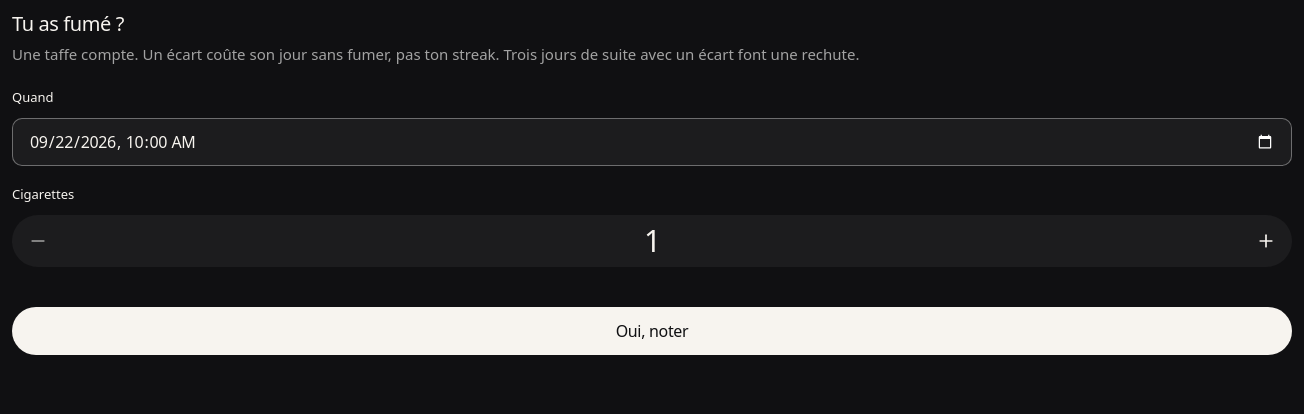
Scenario: refuses a lapse with no date and says why
The width and height of the screenshot is (1304, 414).
Clear the field labelled "Quand" at point(652, 142), box [12,118,1292,166]
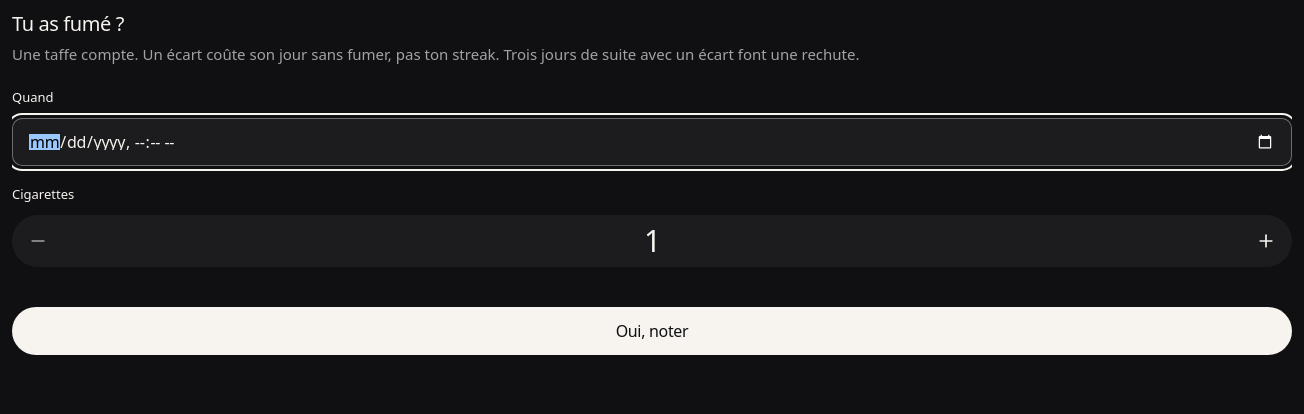
Click the button "Oui, noter" at point(652, 331), box [12,307,1292,355]
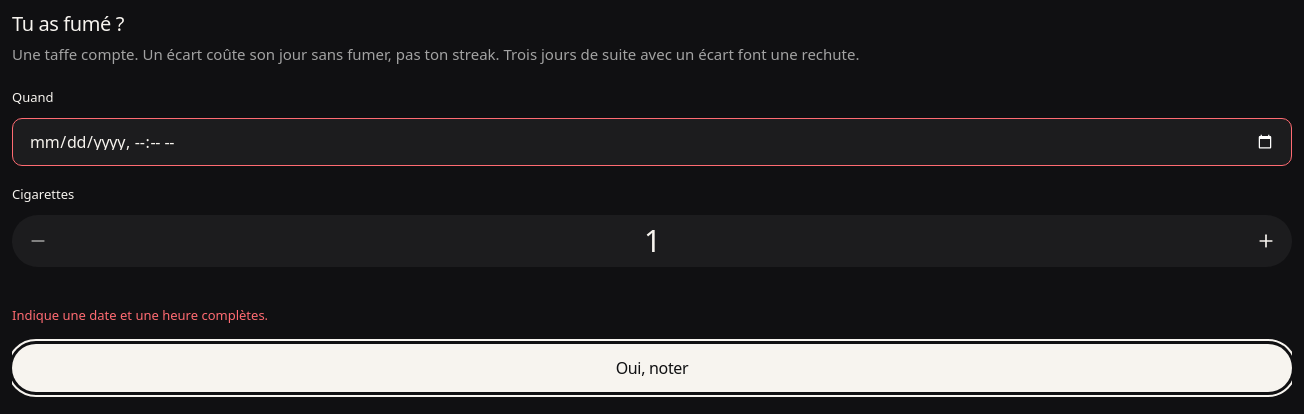
Check: the message reads "Indique une date et une heure complètes.", box [12,306,268,324]
